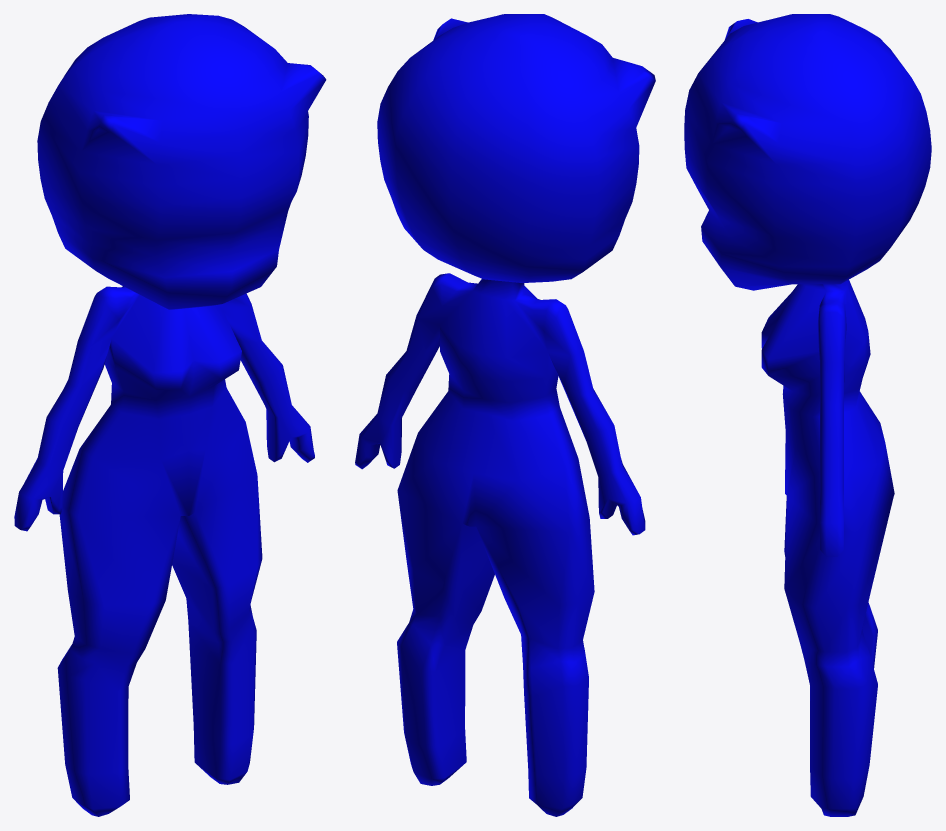
The model's file is tiefling.fbx.
3 renders of one model, left to right at view 1: azimuth 30°, elevation 25°; view 2: azimuth 150°, elevation 25°; view 3: azimuth 270°, elevation 25°, orthographic. The views are drawn at different scales.
Visible parts, largest first — view 1: tiefling; view 2: tiefling; view 3: tiefling.
Boxes of the visible parts, x1,y1,x2,y2 form: tiefling: [14, 14, 326, 816]; tiefling: [355, 14, 655, 816]; tiefling: [684, 14, 931, 816].
Bounding box in the file's own units: 0.8042 × 2.04 × 0.6055.
